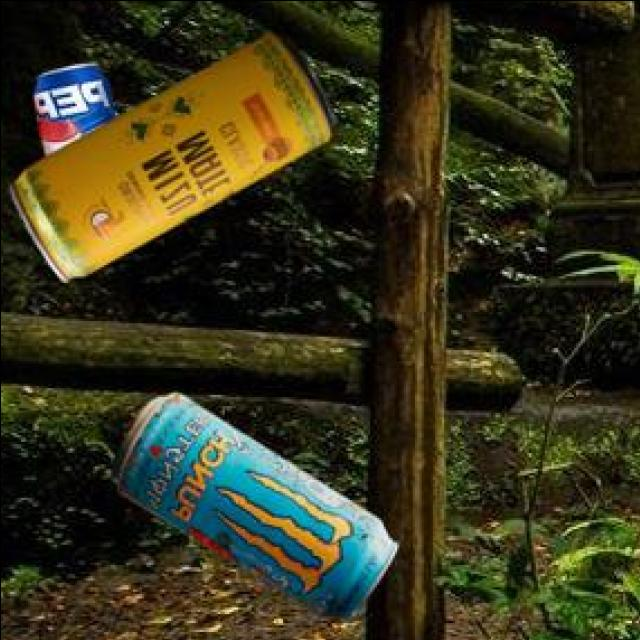logam: (12, 30, 339, 279), (115, 388, 399, 617), (37, 59, 117, 153)
